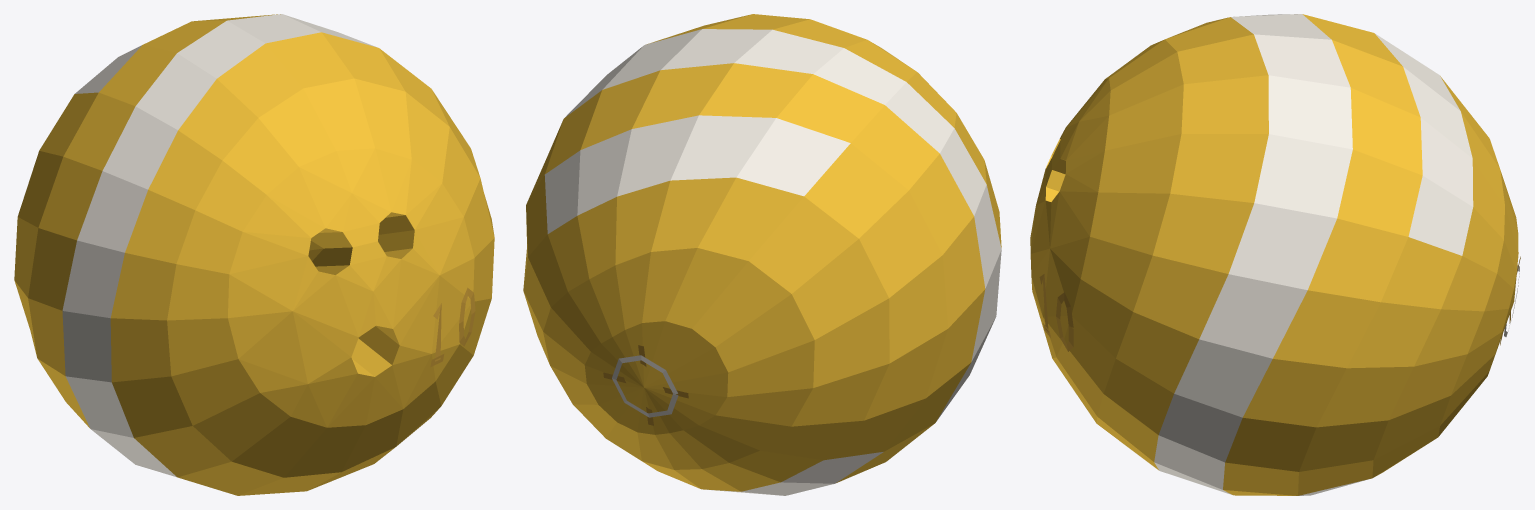
The model's file is cozy_bowling_ball_10lb.glb.
3 renders of one model, left to right at view 1: azimuth 30°, elevation 25°; view 2: azimuth 150°, elevation 25°; view 3: azimuth 270°, elevation 25°, orthographic.
Parts seen in each view (by area): view 1: Ball_10lb_Mesh; view 2: Ball_10lb_Mesh; view 3: Ball_10lb_Mesh.
Boxes of the visible parts, x1,y1,x2,y2 form: Ball_10lb_Mesh: (14, 14, 494, 495); Ball_10lb_Mesh: (523, 14, 1001, 495); Ball_10lb_Mesh: (1030, 14, 1520, 495).
Size of the model in its own units: 0.2161 by 0.2161 by 0.2171.
